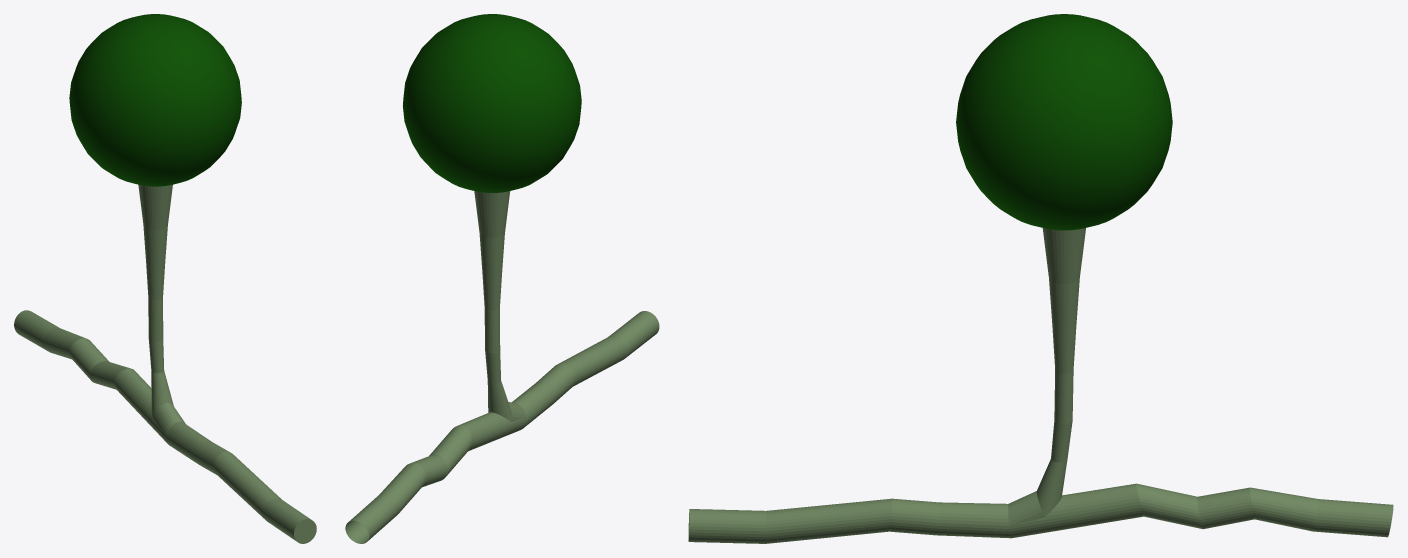
Rendered from spore animation.glb.
3 views of the same model, side by side, from view 1: azimuth 30°, elevation 25°; view 2: azimuth 150°, elevation 25°; view 3: azimuth 270°, elevation 25° (orthographic). The views are drawn at different scales.
Parts seen in each view (by area): view 1: Sphere, Cylinder; view 2: Sphere, Cylinder; view 3: Sphere, Cylinder.
Boxes of the visible parts, x1,y1,x2,y2 form: Sphere: [69, 14, 241, 186]; Cylinder: [14, 184, 316, 543]; Sphere: [403, 14, 581, 192]; Cylinder: [345, 191, 659, 543]; Sphere: [956, 14, 1172, 230]; Cylinder: [688, 228, 1393, 543].
Size of the model in its own units: 2.68 by 7.08 by 8.72.
